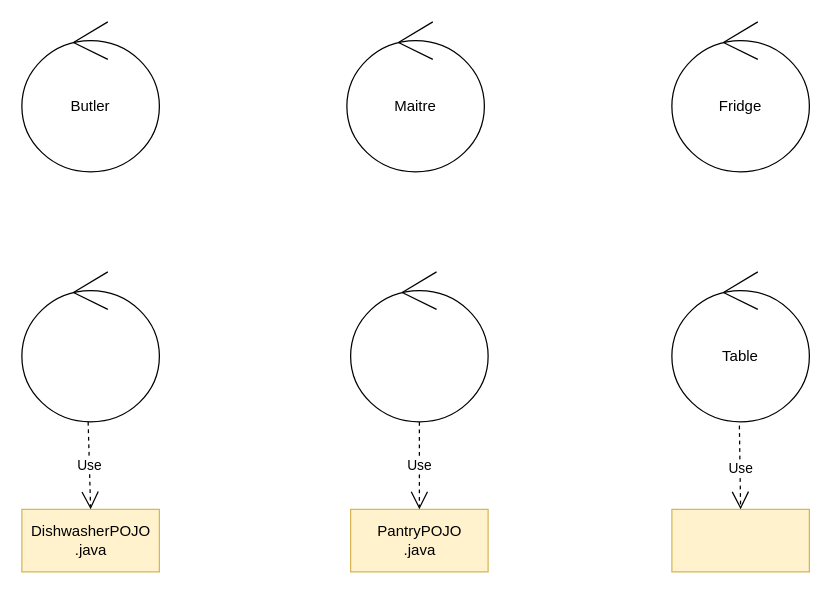
The diagram is 831 pixels wide and 594 high, and some of its shapes have lost their labels. The shapes that lost their labels are listed below. From the top down, each one's centre as x and y in pixels, then its label:
(x=90, y=346): Dishwasher
(x=418, y=346): Pantry
(x=740, y=540): TablePOJO .java
